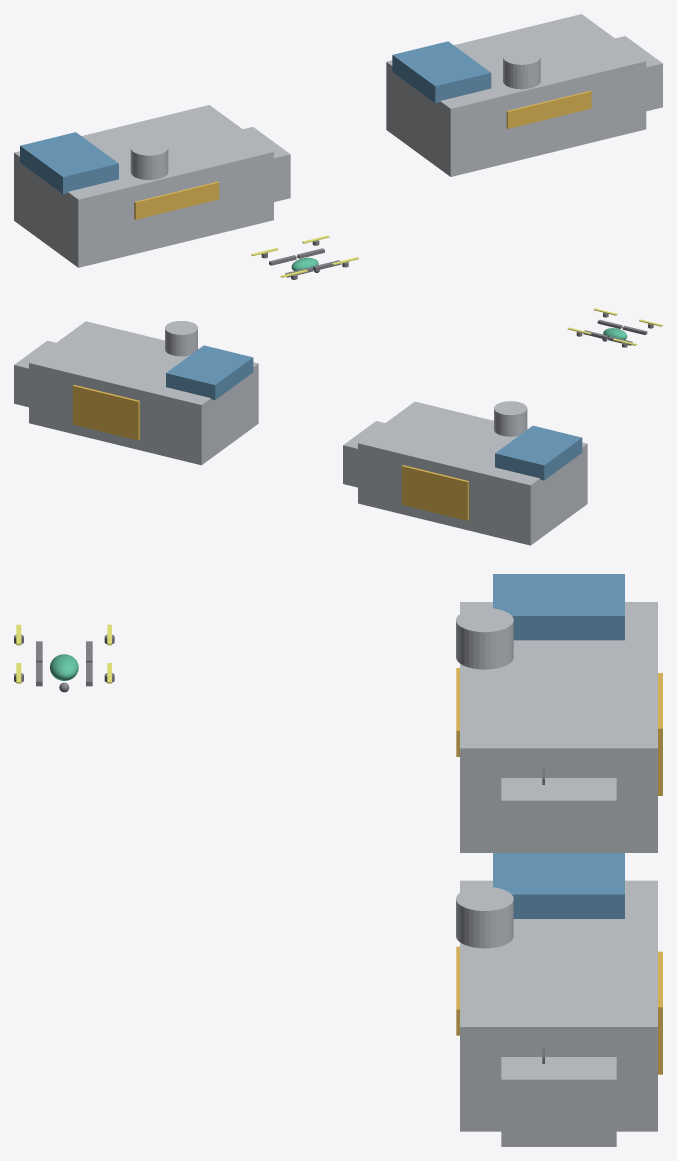
File: RoofAhu_VAV.fbx
3 renders of one model, top to bottom at view 1: azimuth 30°, elevation 25°; view 2: azimuth 150°, elevation 25°; view 3: azimuth 270°, elevation 25°, orthographic. The views are drawn at different scales.
Parts seen in each view (by area): view 1: AHU_VAV_Sys2_Cabinet, AHU_VAV_Sys1_Cabinet, AHU_VAV_Sys2_OAHood, AHU_VAV_Sys1_OAHood, AHU_VAV_Sys2_Nameplate, AHU_VAV_Sys1_Nameplate, AHU_VAV_Sys1_ReliefCowl, AHU_VAV_Sys2_ReliefCowl, AHU_VAV_Sys1_Discharge, AHU_VAV_Sys2_Discharge, TwinDrone; view 2: AHU_VAV_Sys2_Cabinet, AHU_VAV_Sys1_Cabinet, AHU_VAV_Sys1_OAHood, AHU_VAV_Sys2_OAHood, AHU_VAV_Sys1_FilterDoor, AHU_VAV_Sys2_FilterDoor, AHU_VAV_Sys1_ReliefCowl, AHU_VAV_Sys2_ReliefCowl, AHU_VAV_Sys2_Discharge, AHU_VAV_Sys1_Discharge, TwinDrone; view 3: AHU_VAV_Sys2_Cabinet, AHU_VAV_Sys1_Cabinet, AHU_VAV_Sys2_Discharge, AHU_VAV_Sys1_Discharge, AHU_VAV_Sys1_OAHood, AHU_VAV_Sys2_OAHood, AHU_VAV_Sys2_ReliefCowl, AHU_VAV_Sys1_ReliefCowl, TwinDrone.
Part boxes in pixels (bbox=[...]): AHU_VAV_Sys2_Cabinet: bbox=[386, 14, 646, 176]; AHU_VAV_Sys1_Cabinet: bbox=[14, 105, 273, 267]; AHU_VAV_Sys2_OAHood: bbox=[392, 41, 491, 103]; AHU_VAV_Sys1_OAHood: bbox=[20, 132, 118, 193]; AHU_VAV_Sys2_Nameplate: bbox=[506, 90, 591, 128]; AHU_VAV_Sys1_Nameplate: bbox=[134, 181, 219, 219]; AHU_VAV_Sys1_ReliefCowl: bbox=[130, 140, 168, 179]; AHU_VAV_Sys2_ReliefCowl: bbox=[503, 49, 540, 89]; AHU_VAV_Sys1_Discharge: bbox=[243, 127, 290, 201]; AHU_VAV_Sys2_Discharge: bbox=[615, 36, 662, 111]; TwinDrone: bbox=[251, 235, 358, 279]; AHU_VAV_Sys2_Cabinet: bbox=[29, 321, 258, 465]; AHU_VAV_Sys1_Cabinet: bbox=[358, 401, 587, 545]; AHU_VAV_Sys1_OAHood: bbox=[495, 425, 582, 480]; AHU_VAV_Sys2_OAHood: bbox=[166, 345, 253, 399]; AHU_VAV_Sys1_FilterDoor: bbox=[401, 465, 468, 520]; AHU_VAV_Sys2_FilterDoor: bbox=[72, 385, 139, 440]; AHU_VAV_Sys1_ReliefCowl: bbox=[494, 401, 527, 436]; AHU_VAV_Sys2_ReliefCowl: bbox=[165, 321, 197, 356]; AHU_VAV_Sys2_Discharge: bbox=[14, 340, 55, 407]; AHU_VAV_Sys1_Discharge: bbox=[343, 421, 384, 487]; TwinDrone: bbox=[567, 308, 662, 347]; AHU_VAV_Sys2_Cabinet: bbox=[460, 880, 657, 1131]; AHU_VAV_Sys1_Cabinet: bbox=[460, 602, 657, 852]; AHU_VAV_Sys2_Discharge: bbox=[501, 1057, 616, 1146]; AHU_VAV_Sys1_Discharge: bbox=[501, 778, 616, 852]; AHU_VAV_Sys1_OAHood: bbox=[493, 574, 624, 640]; AHU_VAV_Sys2_OAHood: bbox=[493, 853, 624, 918]; AHU_VAV_Sys2_ReliefCowl: bbox=[456, 886, 513, 948]; AHU_VAV_Sys1_ReliefCowl: bbox=[456, 608, 513, 669]; TwinDrone: bbox=[14, 624, 114, 686].
Bounding box in the file's own units: 12.95 × 1.95 × 7.87.
